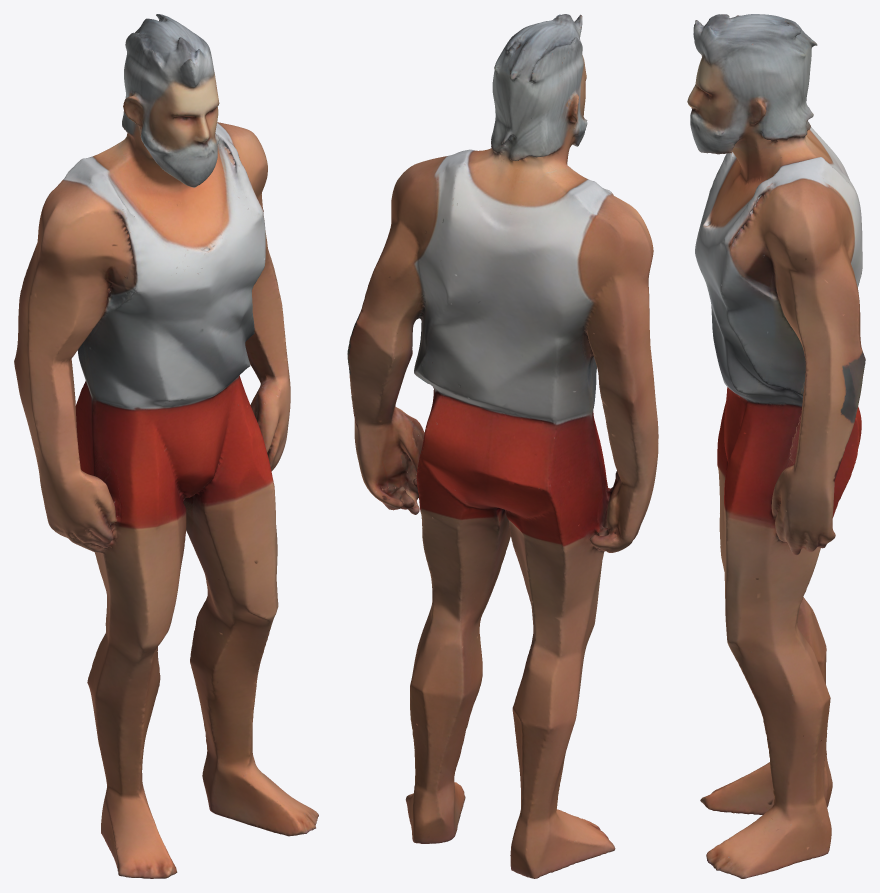
The model's file is male.fbx.
The picture shows the model from 3 angles, left to right: view 1: azimuth 30°, elevation 25°; view 2: azimuth 150°, elevation 25°; view 3: azimuth 270°, elevation 25°; orthographic projection. The views are drawn at different scales.
Parts seen in each view (by area): view 1: Mesh_0; view 2: Mesh_0; view 3: Mesh_0.
Part boxes in pixels (x1,y1,x2,y2): Mesh_0: (14, 14, 318, 878); Mesh_0: (347, 14, 658, 878); Mesh_0: (687, 14, 865, 878).
Size of the model in its own units: 70.4 by 200 by 40.26.
Materials: 1 (1 with a texture image).
